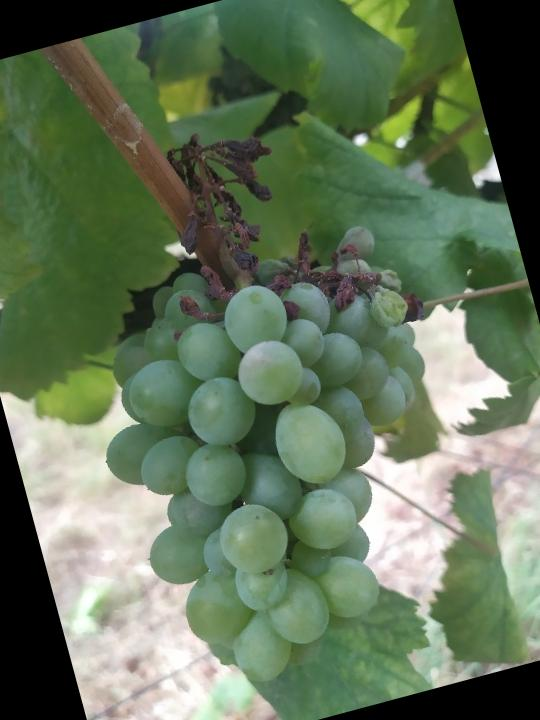grape: (26, 84, 510, 710)
